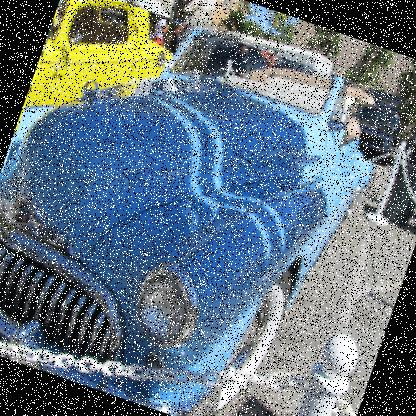Car: (0, 0, 402, 415), (337, 99, 403, 168)
